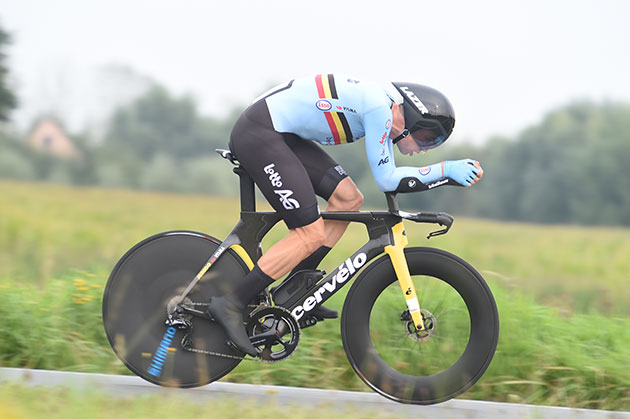bike: (93, 143, 505, 405)
person: (205, 69, 484, 357)
